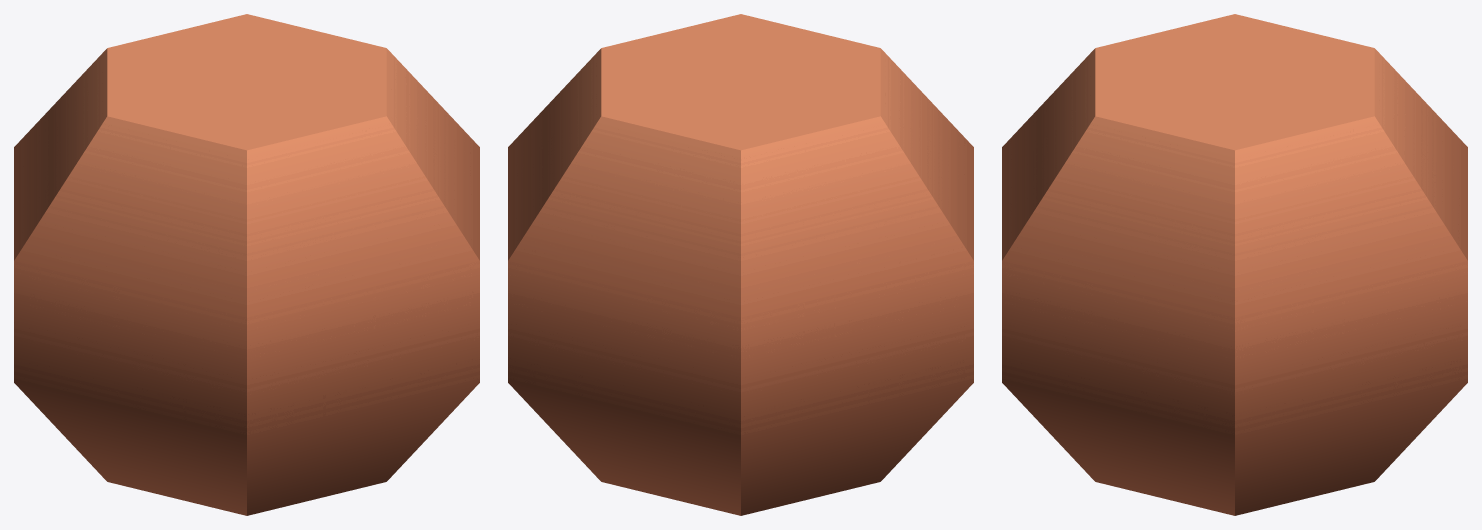
File: tower-defense-kit--weapon-ammo-boulder.glb
3 renders of one model, left to right at view 1: azimuth 30°, elevation 25°; view 2: azimuth 150°, elevation 25°; view 3: azimuth 270°, elevation 25°, orthographic.
Visible parts, largest first — view 1: weapon-ammo-boulder; view 2: weapon-ammo-boulder; view 3: weapon-ammo-boulder.
Boxes of the visible parts, x1,y1,x2,y2 form: weapon-ammo-boulder: [14, 14, 479, 515]; weapon-ammo-boulder: [508, 14, 973, 515]; weapon-ammo-boulder: [1002, 14, 1467, 515].
Size of the model in its own units: 0.32 by 0.24 by 0.2771.
Materials: 1 (1 with a texture image).
